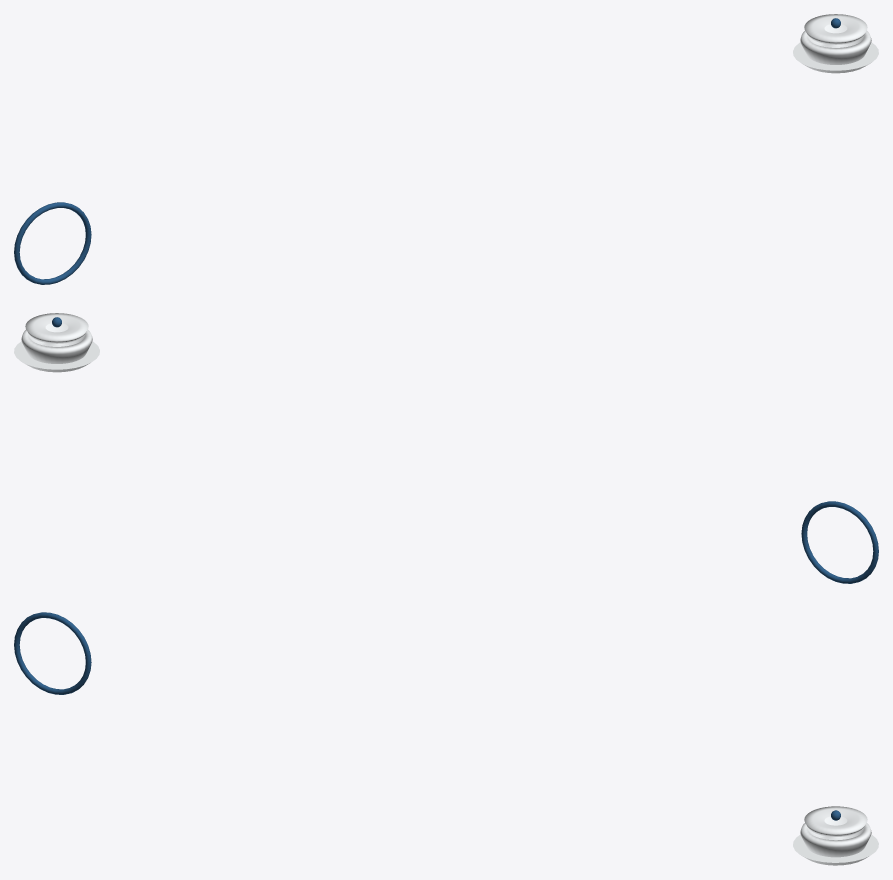
Rendered from wok_prop_gaiwan.glb.
3 views of the same model, one above another, from view 1: azimuth 30°, elevation 25°; view 2: azimuth 150°, elevation 25°; view 3: azimuth 330°, elevation 25° (orthographic).
Bounding box in the file's own units: 1.72 × 0.1532 × 0.15.
